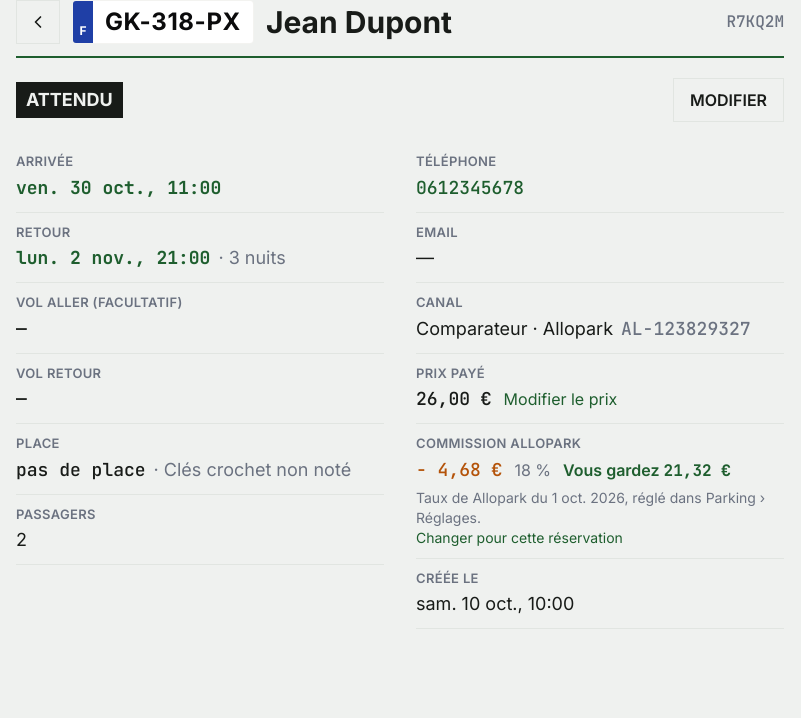
Test case: ReservationPage · prix payé (10/10/2026) › montre la commission du comparateur et ce que le parking garde, et la change pour cette réservation (19/10/2026)
Expected: the element with test id "commission-line" shows "4,68 €", [438,458,502,480]
Expected: the element with test id "commission-line" shows "18 %", [514,460,551,480]
Click the button "Changer pour cette réservation" at (519, 538), box [416,528,623,548]
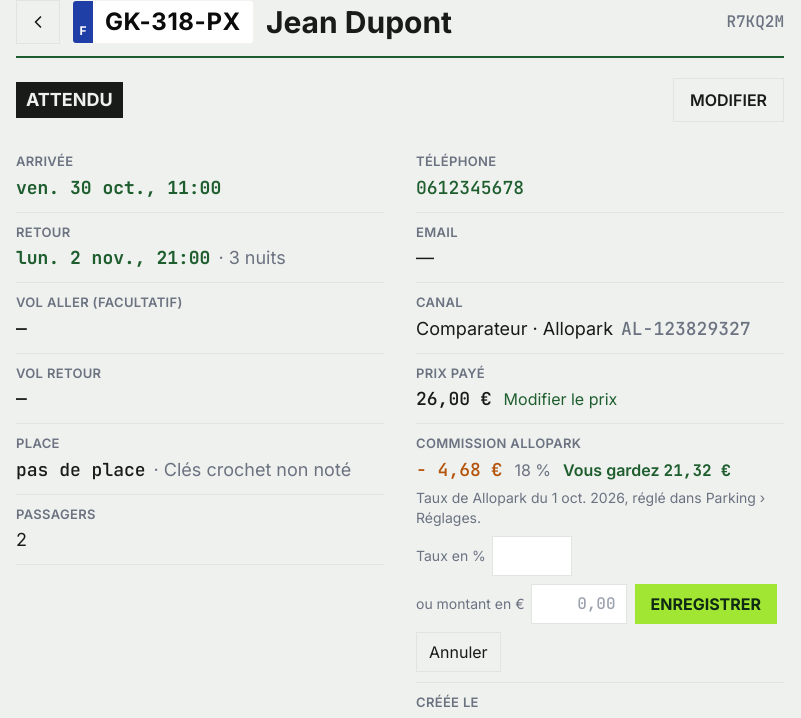
Type "12" into the field labelled "Taux en %" at (532, 556), box [492,536,572,576]
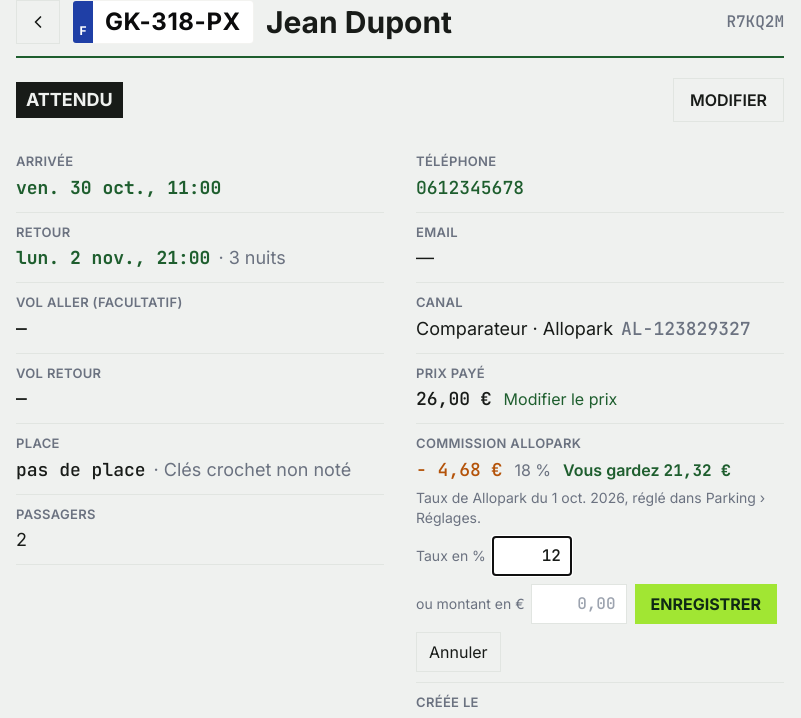
Click the button "Enregistrer" at (706, 604), box [634,584,777,624]
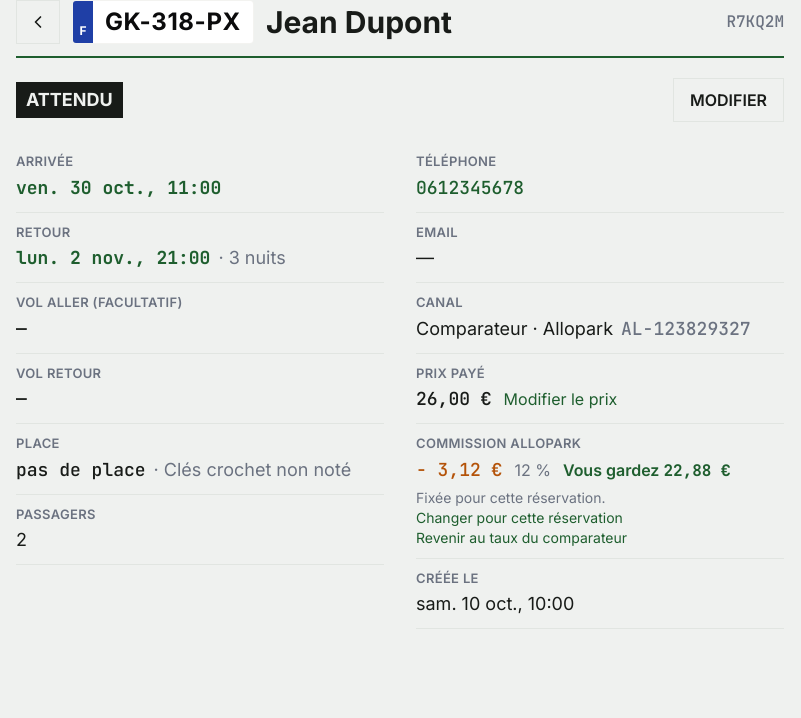
Now the text "Fixée pour cette réservation." is shown, box [416,488,606,506]
Now the element with test id "commission-line" shows "22,88 €", box [663,460,731,480]
